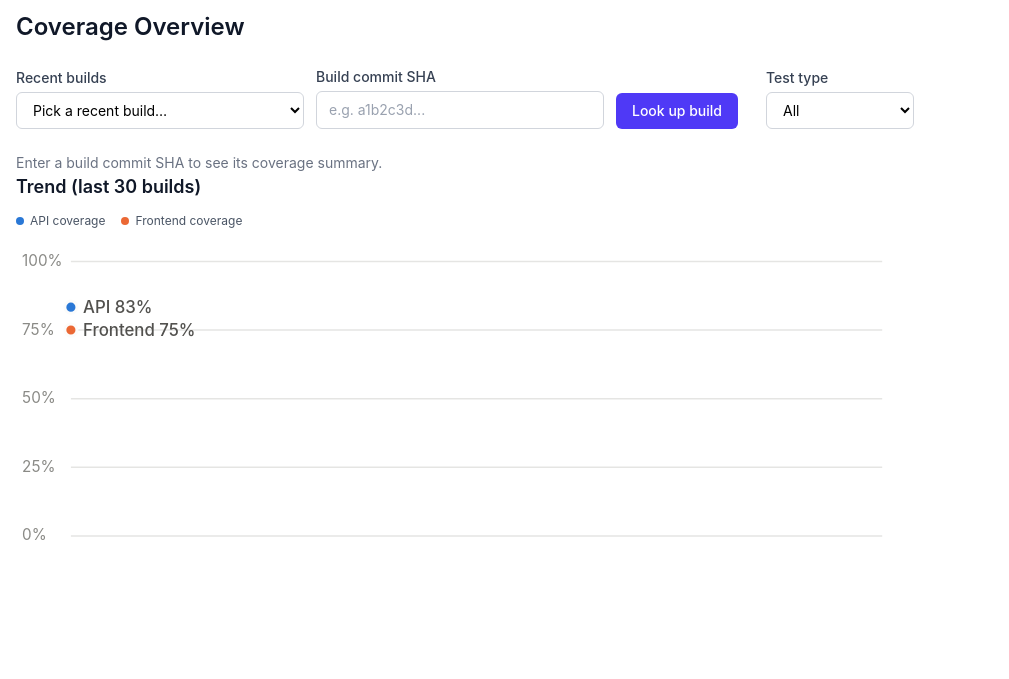
Test: OverviewPage › renders stat tiles on a successful summary lookup
Type "abc123" into the field with test id "commit-sha-input" at [460, 110], box top-left (316, 91), bottom-right (604, 129)
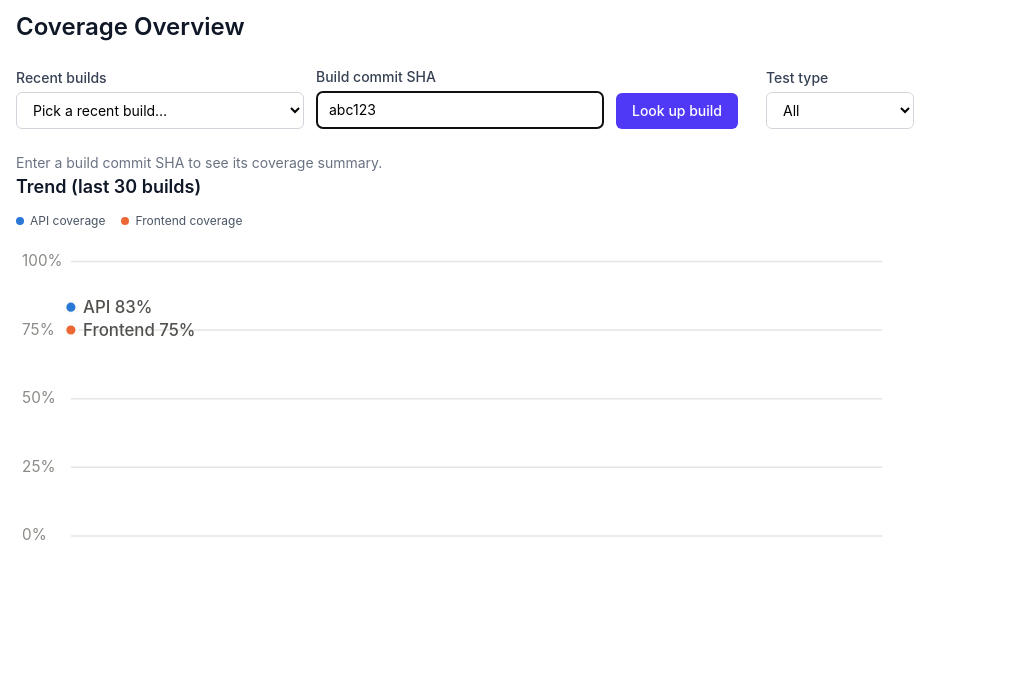
Click the button with test id "commit-sha-submit-button" at [677, 111], box top-left (616, 93), bottom-right (738, 129)
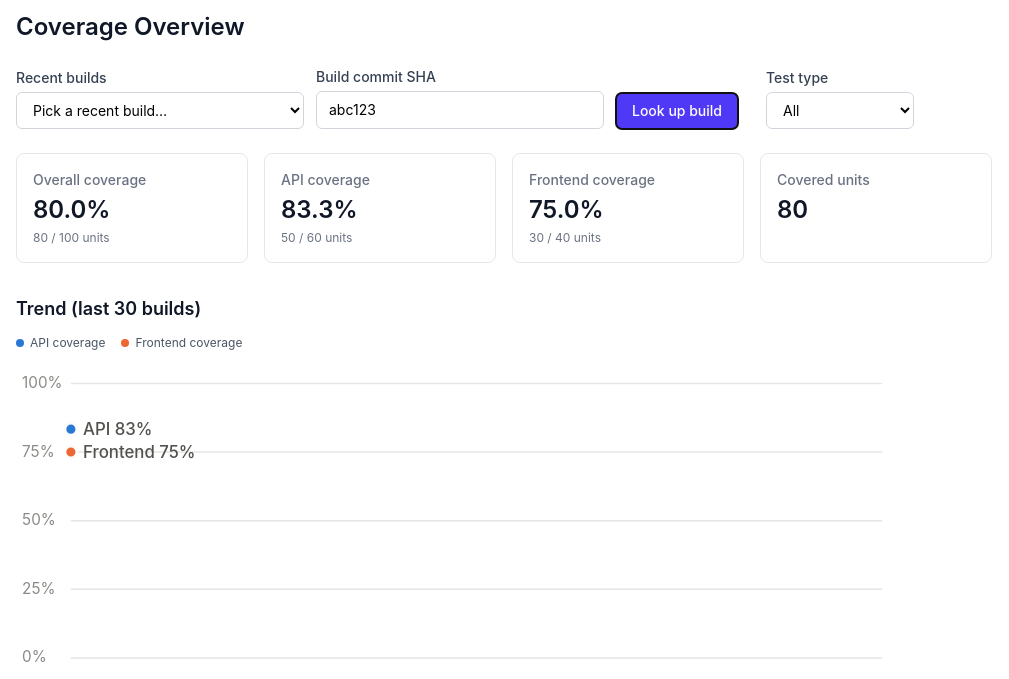
Result: the element with test id "summary-stat-tiles" is shown at top-left (16, 153), bottom-right (992, 263)
Result: the element with test id "stat-tile-overall" shows "80.0%" at top-left (33, 195), bottom-right (110, 224)
Result: the element with test id "stat-tile-api" shows "83.3%" at top-left (281, 195), bottom-right (358, 224)
